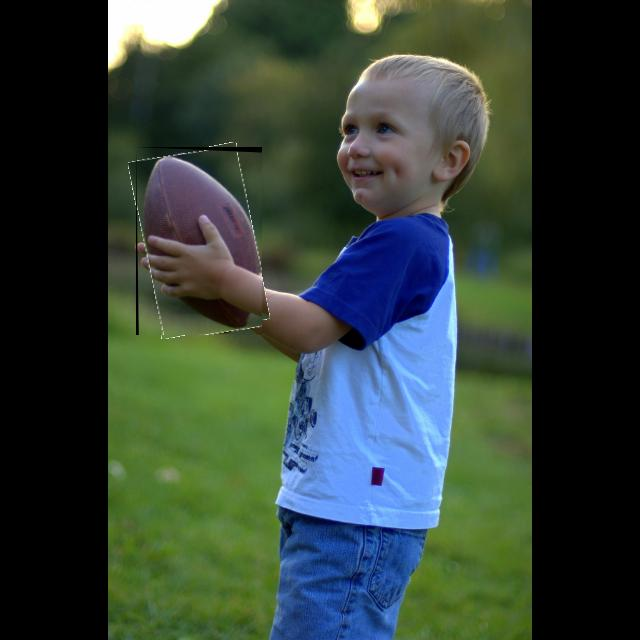Football: (136, 147, 262, 335)
